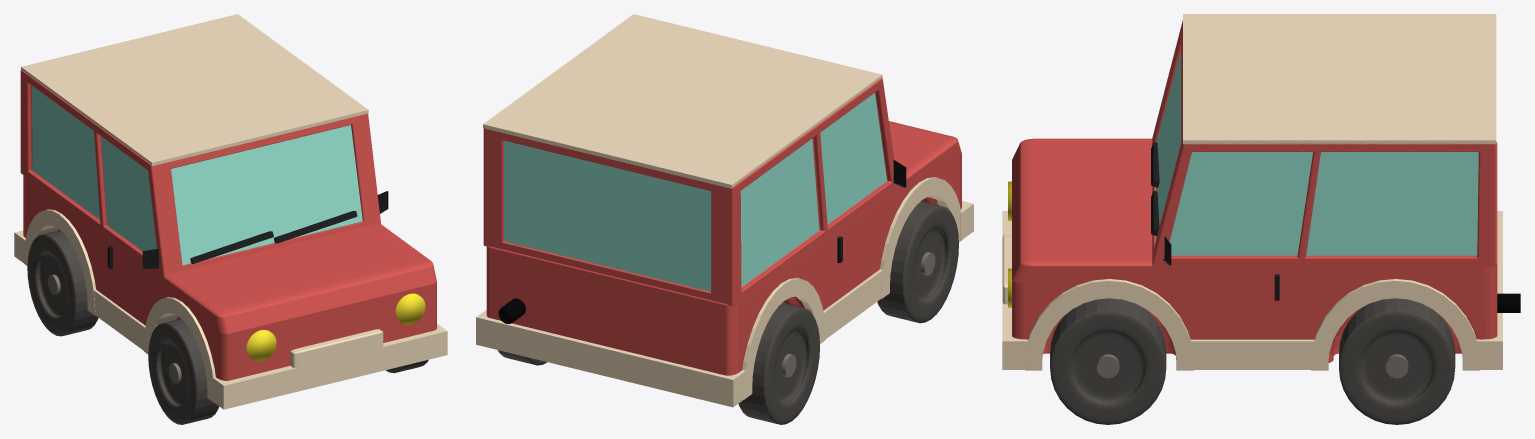
The model's file is car_model.glb.
The picture shows the model from 3 angles, left to right: view 1: azimuth 30°, elevation 25°; view 2: azimuth 150°, elevation 25°; view 3: azimuth 270°, elevation 25°; orthographic projection. The views are drawn at different scales.
Visible parts, largest first — view 1: Cube.001, wheel_br, wheel_fr, jeep_lights; view 2: Cube.001, wheel_fr, wheel_br; view 3: Cube.001, wheel_fl, wheel_bl.
Boxes of the visible parts, bbox=[...] form: Cube.001: bbox=[14, 14, 447, 409]; wheel_br: bbox=[27, 230, 98, 336]; wheel_fr: bbox=[148, 318, 219, 424]; jeep_lights: bbox=[246, 293, 425, 361]; Cube.001: bbox=[476, 14, 973, 407]; wheel_fr: bbox=[877, 201, 958, 323]; wheel_br: bbox=[738, 302, 819, 424]; Cube.001: bbox=[1002, 14, 1520, 370]; wheel_fl: bbox=[1050, 298, 1166, 424]; wheel_bl: bbox=[1339, 298, 1455, 424].
Bounding box in the file's own units: 1.65 × 1.5 × 2.52.
